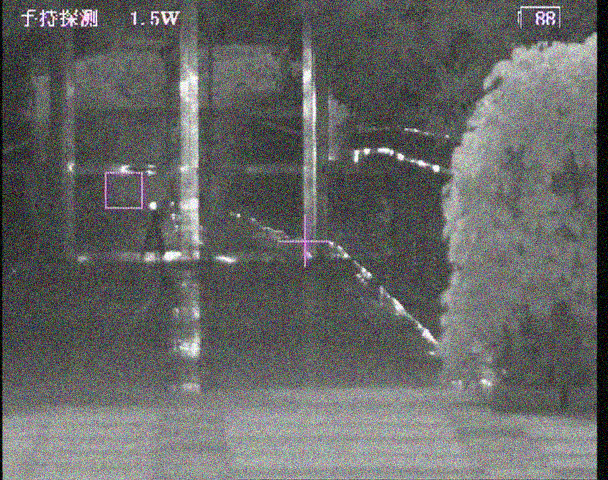my: (149, 201, 158, 211)
